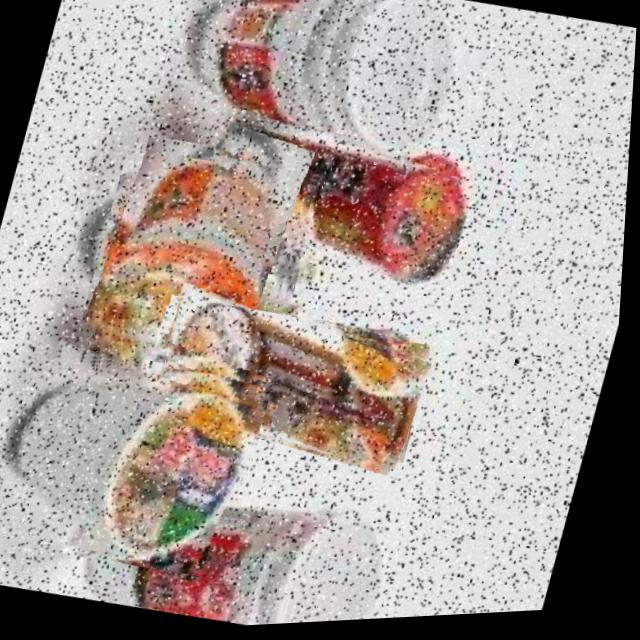Miscellaneous: (0, 334, 280, 592), (76, 140, 322, 384), (146, 288, 442, 486), (188, 106, 486, 302)
